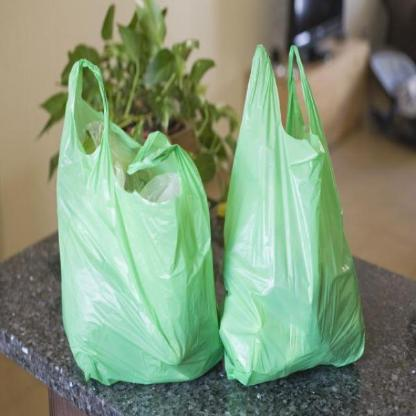Plastic Bag: (54, 58, 222, 382), (219, 42, 365, 386)
